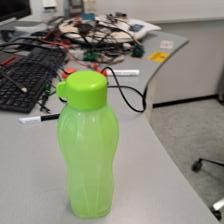bottle: (52, 66, 122, 223)
